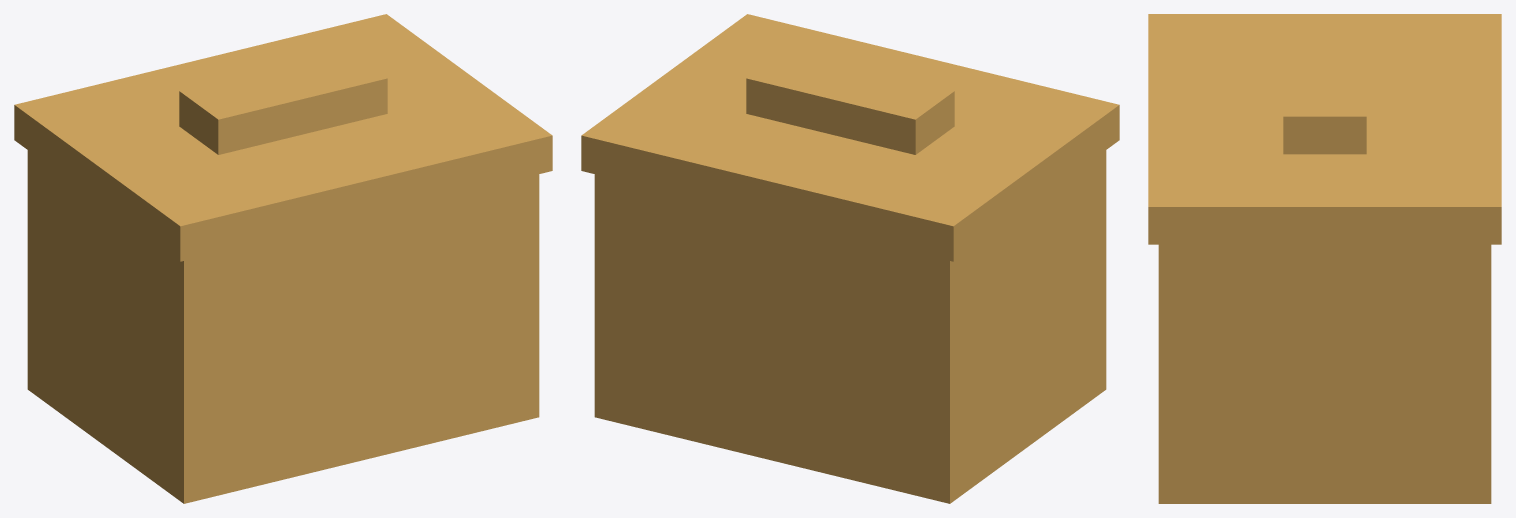
Rendered from product_chips_carton.glb.
3 views of the same model, side by side, from view 1: azimuth 30°, elevation 25°; view 2: azimuth 150°, elevation 25°; view 3: azimuth 270°, elevation 25° (orthographic). The views are drawn at different scales.
Parts seen in each view (by area): view 1: product.chips_carton; view 2: product.chips_carton; view 3: product.chips_carton.
Boxes of the visible parts, box(x1,y1,x2,y2) form: product.chips_carton: box(14, 14, 552, 503); product.chips_carton: box(581, 14, 1119, 503); product.chips_carton: box(1148, 14, 1501, 503).
Size of the model in its own units: 0.24 by 0.1964 by 0.1855.
